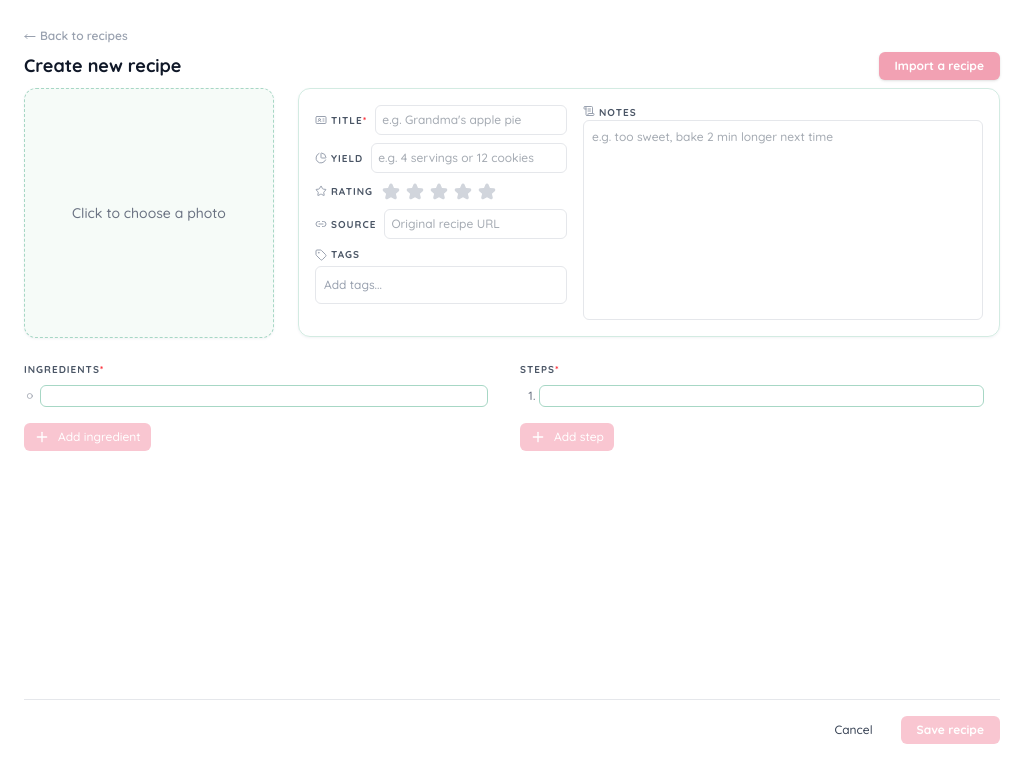
Test: NewRecipe cancel guard › shows the dirty modal when the draft has content
Type "Apple pie" into the field labelled "Title*". click: (471, 120)
box: [375,105,567,135]
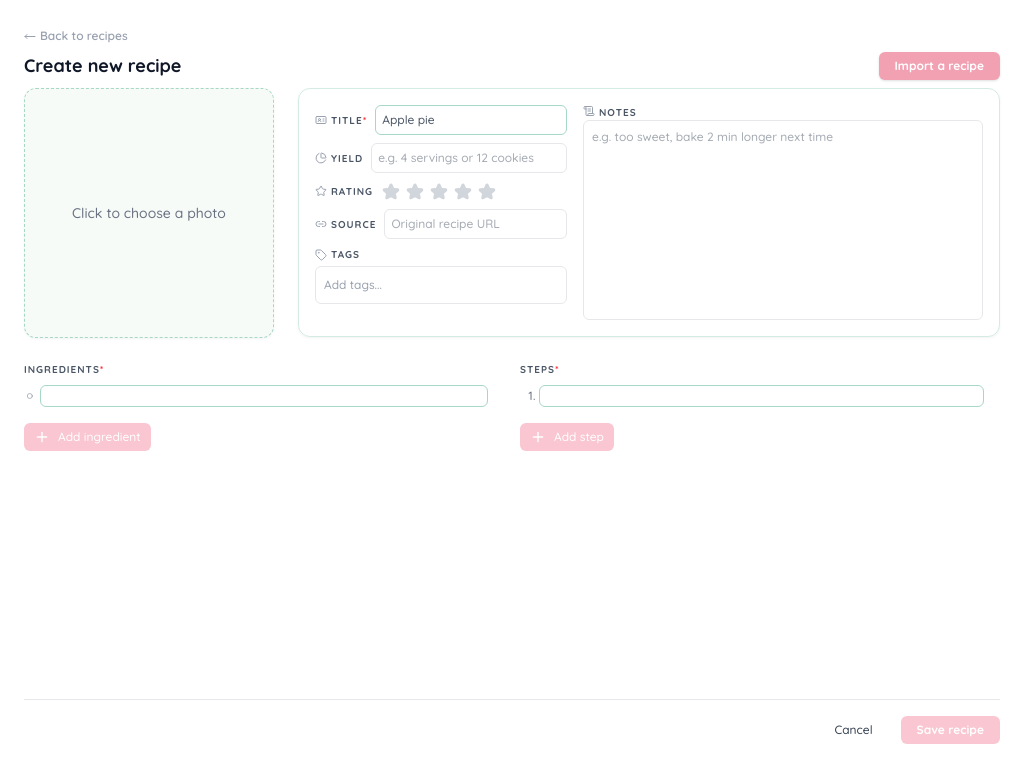
Click the button "Back to recipes". click: (76, 36)
box: [24,28,128,44]
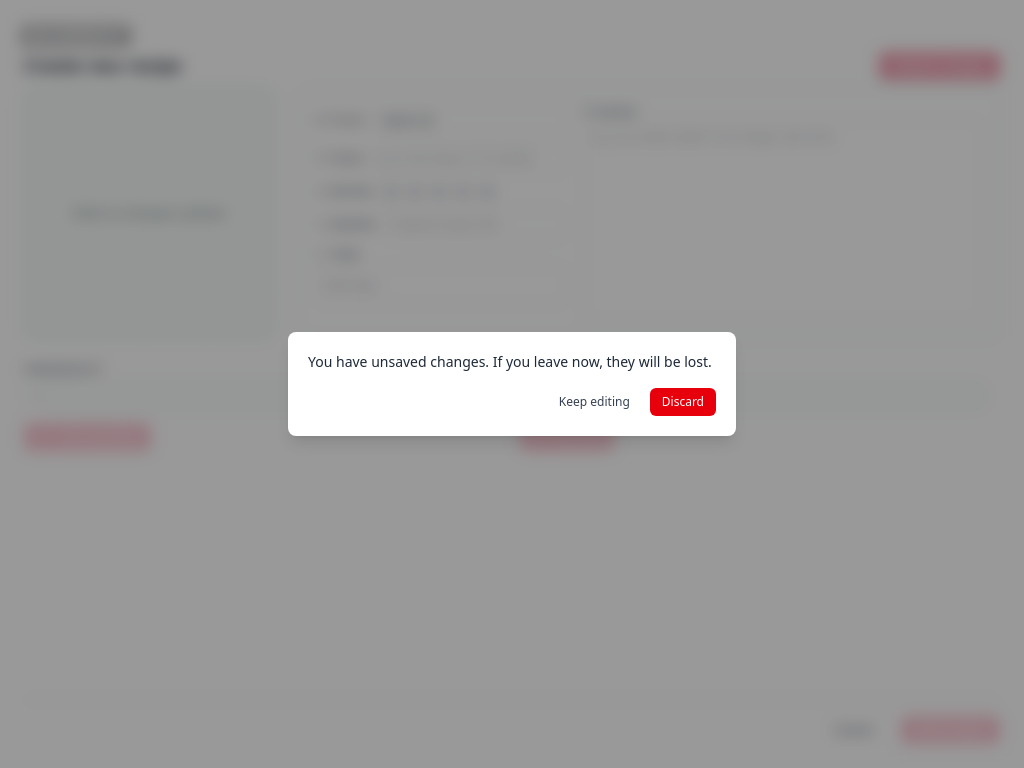
Expected: the text "You have unsaved changes" is shown, [308,352,712,371]
